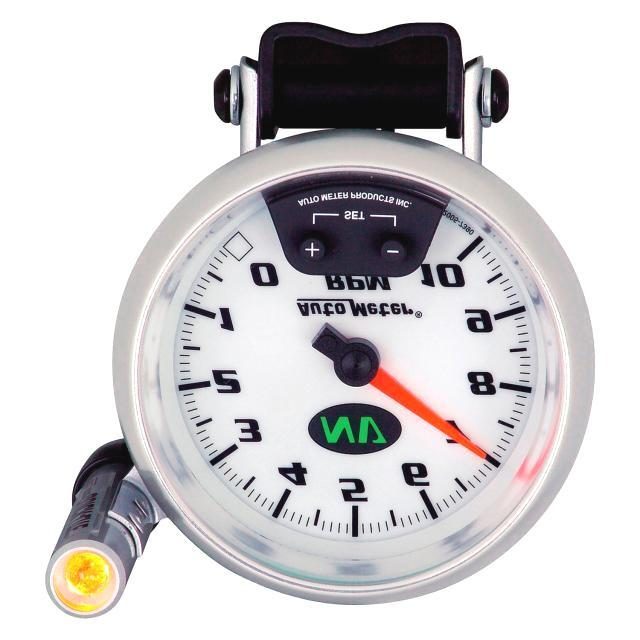Needle_Tip: (458, 421, 499, 483)
Needle_base: (326, 324, 390, 395)
max_value: (415, 239, 478, 303)
min_value: (239, 240, 292, 294)
